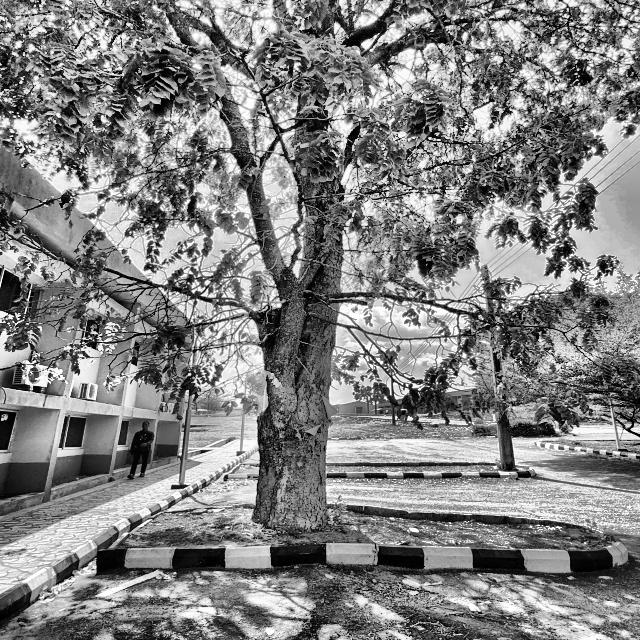tree: (0, 0, 640, 546)
